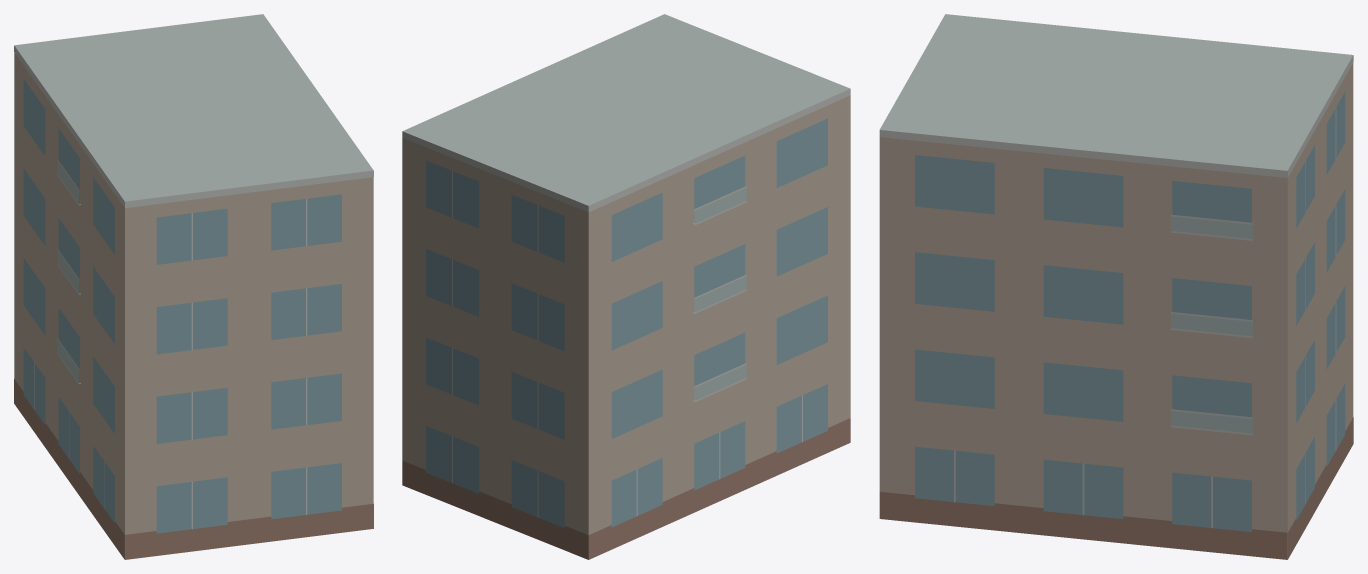
Rendered from survey-upis-32820870.glb.
3 renders of one model, left to right at view 1: azimuth 30°, elevation 25°; view 2: azimuth 150°, elevation 25°; view 3: azimuth 270°, elevation 25°, orthographic. The views are drawn at different scales.
Visible parts, largest first — view 1: survey-upis-32820870.tmp; view 2: survey-upis-32820870.tmp; view 3: survey-upis-32820870.tmp.
Boxes of the visible parts, x1,y1,x2,y2 form: survey-upis-32820870.tmp: (14,14,373,559); survey-upis-32820870.tmp: (402,14,850,559); survey-upis-32820870.tmp: (879,14,1353,559).
Bounding box in the file's own units: 11.47 × 13.25 × 14.64.
